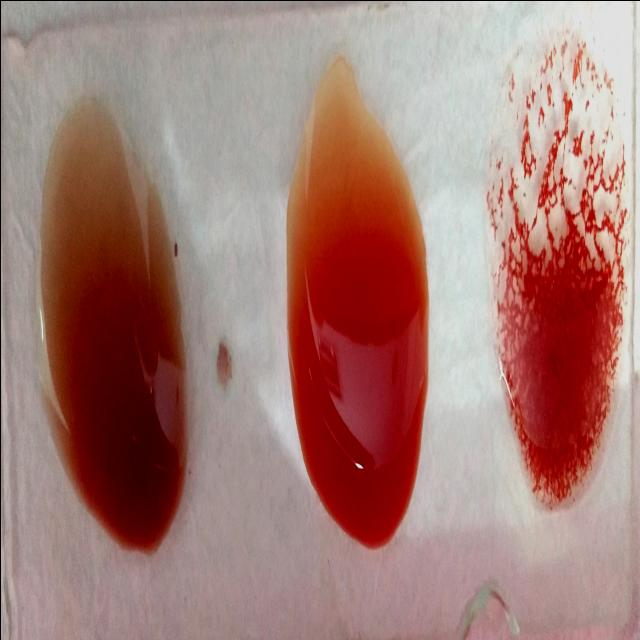D: (483, 47, 626, 515)
